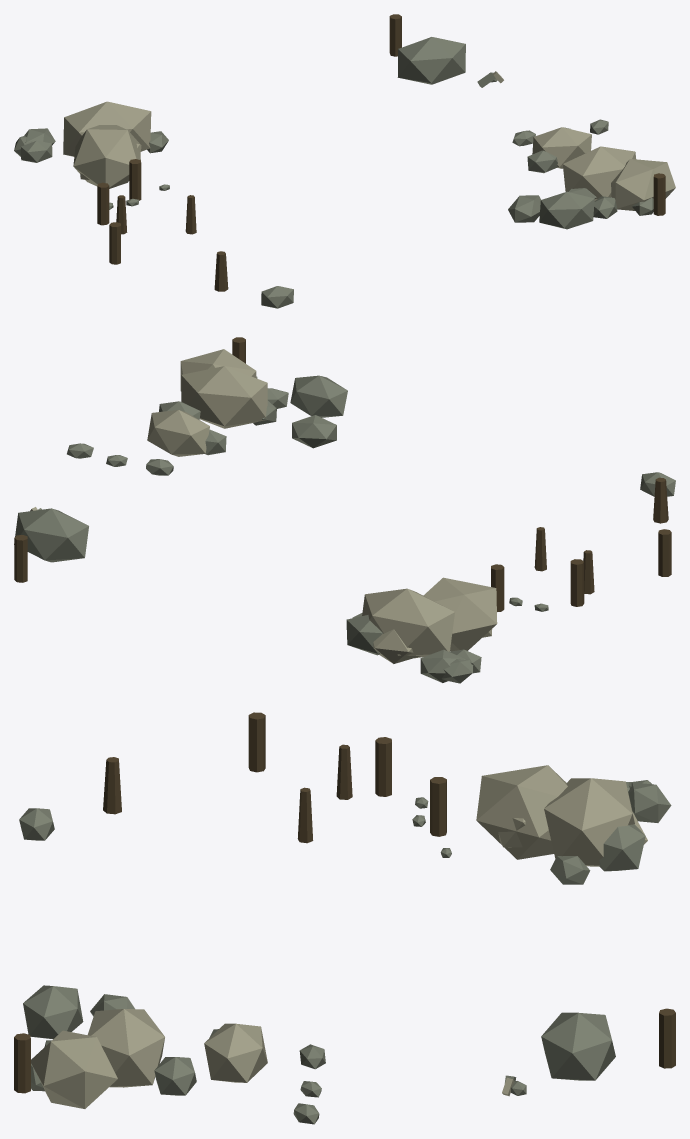
Rendered from rock_garden_solid_props.fbx.
3 views of the same model, one above another, from view 1: azimuth 30°, elevation 25°; view 2: azimuth 150°, elevation 25°; view 3: azimuth 270°, elevation 25° (orthographic). The views are drawn at different scales.
Visible parts, largest first — view 1: chunk_rock_garden__PropsSolid; view 2: chunk_rock_garden__PropsSolid; view 3: chunk_rock_garden__PropsSolid.
Part boxes in pixels (x1,y1,x2,y2): chunk_rock_garden__PropsSolid: [14, 14, 675, 308]; chunk_rock_garden__PropsSolid: [14, 337, 675, 683]; chunk_rock_garden__PropsSolid: [14, 712, 675, 1124].
Size of the model in its own units: 201 by 23.4 by 159.
